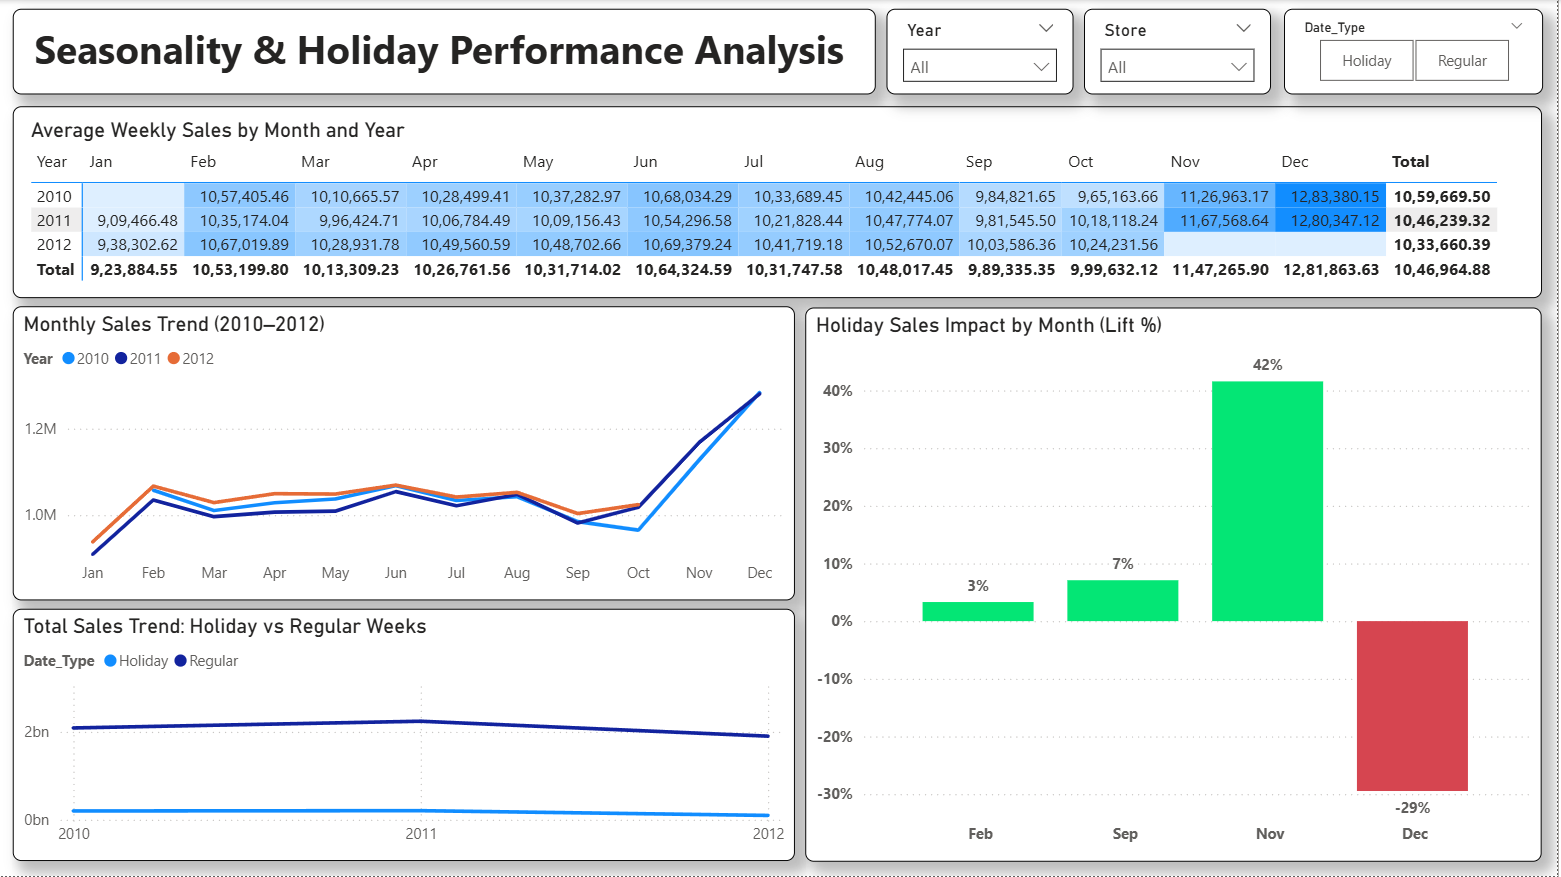

What the dashboard file says about the page in this screenshot:
{"tool":"powerbi","page":{"name":"Page 2","canvas":[1280,720],"ordinal":1},"visuals":[{"type":"textbox","box":[11.2,7.5,708.8,70],"z":0},{"type":"pivotTable","title":"Average Weekly Sales by Month and Year","fields":{"Rows":["vw_dim_date.Year"],"Values":["Measures (2).Avg Weekly Sales"],"Columns":["vw_dim_date.Month_Short"]},"box":[11.2,87.5,1256.2,157.5],"z":1000},{"type":"lineChart","title":"Monthly Sales Trend (2010–2012)","fields":{"Y":["Measures (2).Avg Weekly Sales"],"Series":["vw_dim_date.Year"],"Category":["vw_dim_date.Month_Short"]},"box":[11.2,252,642.5,241.2],"z":2000},{"type":"lineChart","title":"Total Sales Trend: Holiday vs Regular Weeks","fields":{"Category":["vw_dim_date.Date.Variation.Date Hierarchy.Year","vw_dim_date.Date.Variation.Date Hierarchy.Quarter","vw_dim_date.Date.Variation.Date Hierarchy.Month","vw_dim_date.Date.Variation.Date Hierarchy.Day"],"Y":["Measures (2).Total Sales"],"Series":["vw_dim_date.Date_Type"]},"box":[11.2,500,642.5,207.5],"z":3000},{"type":"clusteredColumnChart","title":"Holiday Sales Impact by Month (Lift %)","fields":{"Category":["vw_dim_date.Month_Short"],"Y":["Measures (2).Holiday Lift % by Month (Valid)"]},"box":[662.5,252.5,605,455],"z":4000},{"type":"slicer","fields":{"Values":["vw_dim_date.Year"]},"box":[728.8,7.5,153.8,70],"z":5000},{"type":"slicer","fields":{"Values":["walmart_cleaned.Store"]},"box":[891.2,7.5,153.8,70],"z":6000},{"type":"slicer","fields":{"Values":["vw_dim_date.Date_Type"]},"box":[1055,7.5,212.5,70],"z":7000}]}

Visuals, with their boxes in screenshot pixels (x1, y1, x2, y2), scaled from the page's 1280x720 canvas onto the 1561x877 screenshot:
textbox: pyautogui.locateOnScreen(14, 9, 878, 94)
"Average Weekly Sales by Month and Year" pivotTable: pyautogui.locateOnScreen(14, 107, 1546, 298)
"Monthly Sales Trend (2010–2012)" lineChart: pyautogui.locateOnScreen(14, 307, 797, 601)
"Total Sales Trend: Holiday vs Regular Weeks" lineChart: pyautogui.locateOnScreen(14, 609, 797, 862)
"Holiday Sales Impact by Month (Lift %)" clusteredColumnChart: pyautogui.locateOnScreen(808, 308, 1546, 862)
slicer - vw_dim_date.Year: pyautogui.locateOnScreen(889, 9, 1076, 94)
slicer - walmart_cleaned.Store: pyautogui.locateOnScreen(1087, 9, 1274, 94)
slicer - vw_dim_date.Date_Type: pyautogui.locateOnScreen(1287, 9, 1546, 94)
